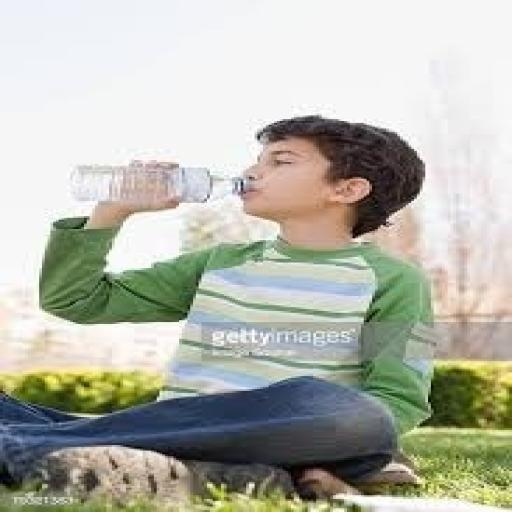drinking: (64, 158, 244, 205)
